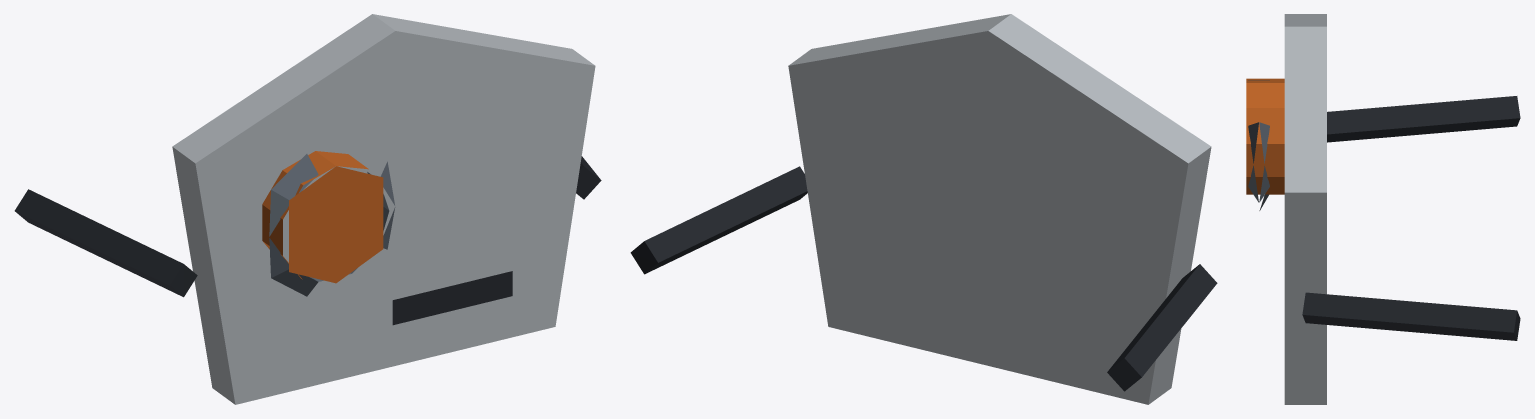
Rendered from facial-prosthesis.lod.glb.
3 views of the same model, side by side, from view 1: azimuth 30°, elevation 25°; view 2: azimuth 150°, elevation 25°; view 3: azimuth 270°, elevation 25° (orthographic). The views are drawn at different scales.
Visible parts, largest first — view 1: m; view 2: m; view 3: m.
Part boxes in pixels (<box>): m: <box>14,14,601,404</box>; m: <box>630,14,1217,404</box>; m: <box>1246,14,1520,404</box>.
Bounding box in the file's own units: 0.1 × 0.0626 × 0.0507.
